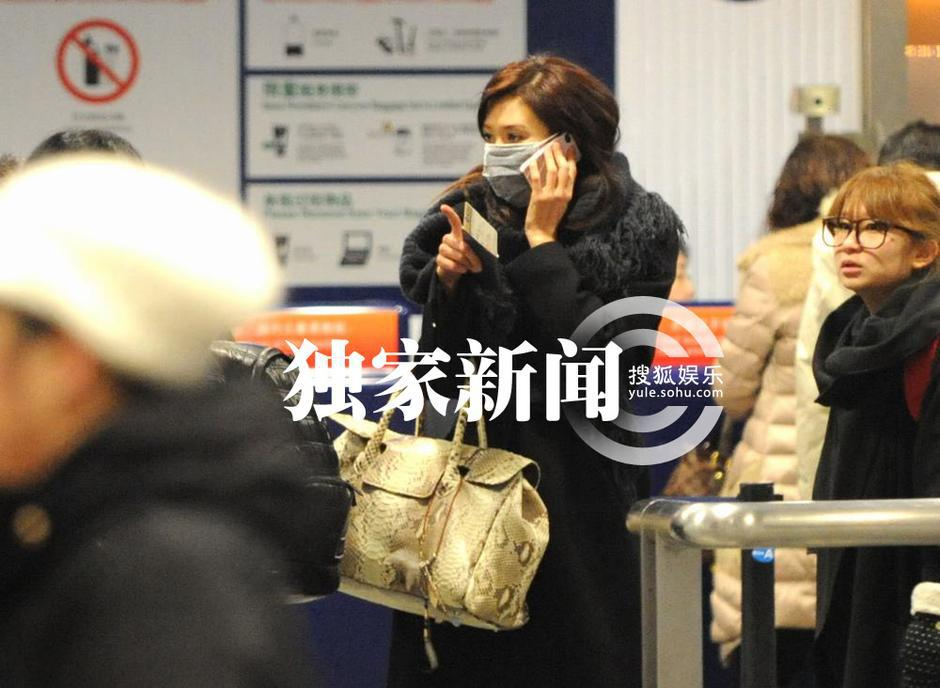NONE: (833, 219, 902, 284)
OK: (478, 118, 563, 203)
